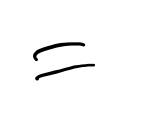eqv: (33, 42, 95, 81)
